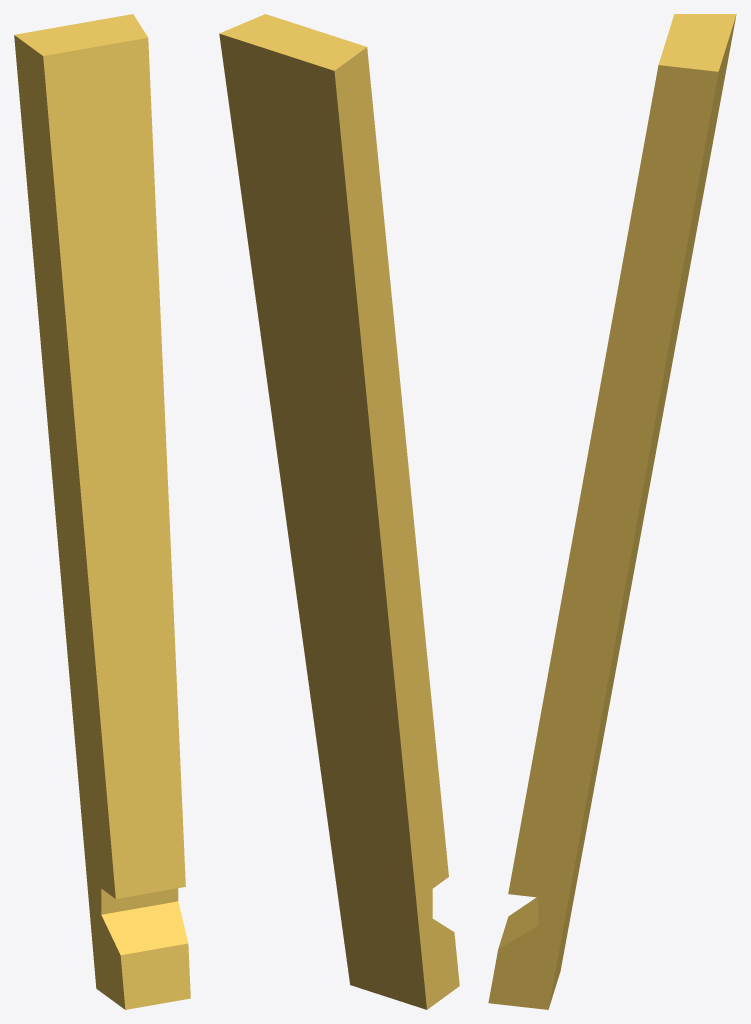
File: original-22.obj
The picture shows the model from 3 angles, left to right: view 1: azimuth 30°, elevation 25°; view 2: azimuth 150°, elevation 25°; view 3: azimuth 270°, elevation 25°; orthographic projection. The views are drawn at different scales.
Parts seen in each view (by area): view 1: Group_53_16/Group_53/mesh88/mesh88-geometry#mesh88-geometry; view 2: Group_53_16/Group_53/mesh88/mesh88-geometry#mesh88-geometry; view 3: Group_53_16/Group_53/mesh88/mesh88-geometry#mesh88-geometry.
Boxes of the visible parts, left/top/right/bottom form: Group_53_16/Group_53/mesh88/mesh88-geometry#mesh88-geometry: left=14, top=14, right=190, bottom=1009; Group_53_16/Group_53/mesh88/mesh88-geometry#mesh88-geometry: left=219, top=14, right=459, bottom=1009; Group_53_16/Group_53/mesh88/mesh88-geometry#mesh88-geometry: left=488, top=14, right=736, bottom=1009.
Size of the model in its own units: 0.1199 by 0.9253 by 0.2174.
